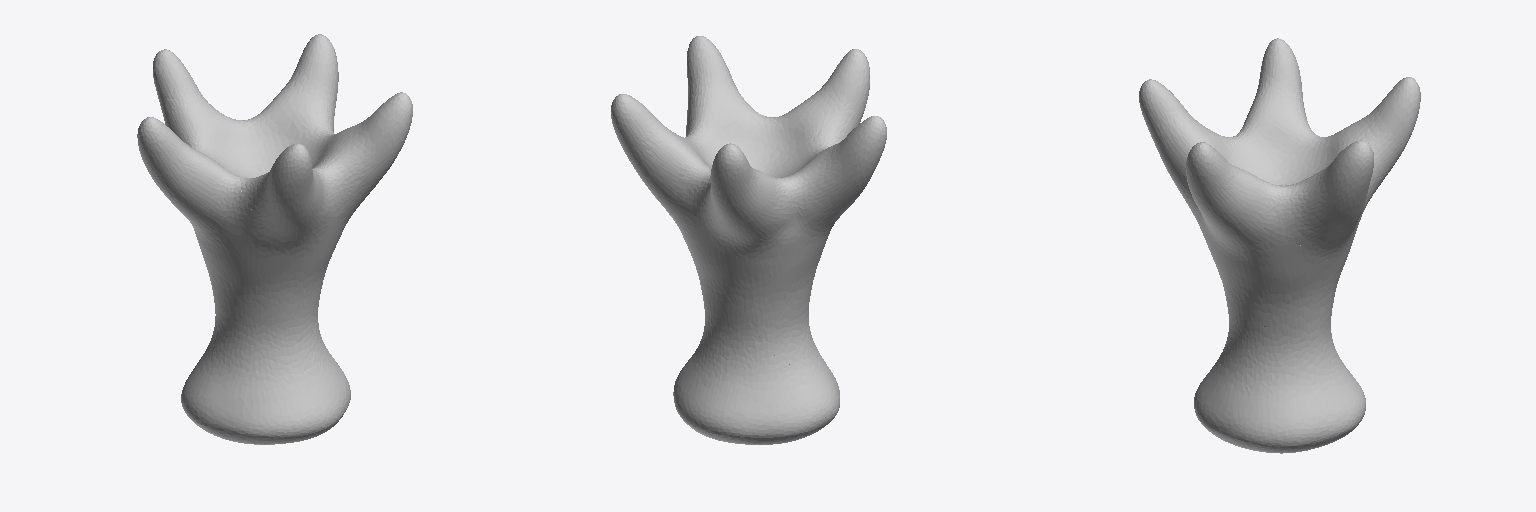
File: eat-simple-3.obj
The picture shows the model from 3 angles: view 1: azimuth 30°, elevation 25°; view 2: azimuth 150°, elevation 25°; view 3: azimuth 270°, elevation 25°; orthographic projection.
Visible parts, largest first — view 1: Quad_Sphere; view 2: Quad_Sphere; view 3: Quad_Sphere.
Part boxes in pixels (left/top/right/bottom): Quad_Sphere: left=137, top=34, right=412, bottom=444; Quad_Sphere: left=611, top=36, right=886, bottom=444; Quad_Sphere: left=1139, top=38, right=1420, bottom=453.
Size of the model in its own units: 3.55 by 4.8 by 3.71.